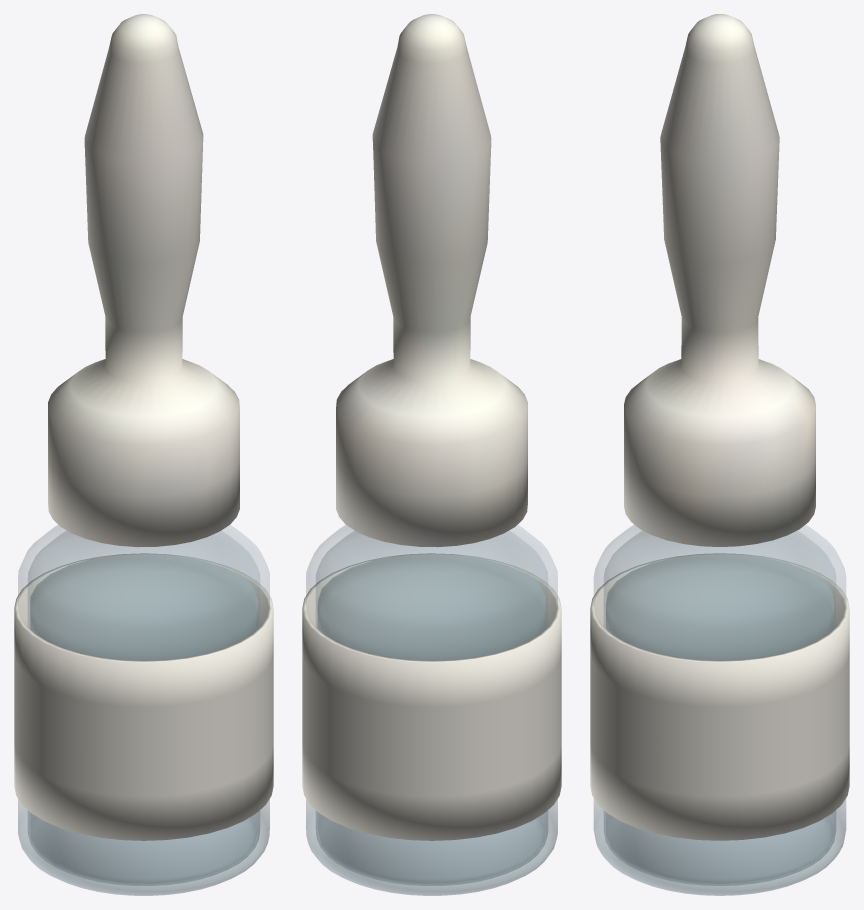
File: indicator-dropper-bottle.glb
The picture shows the model from 3 angles, left to right: view 1: azimuth 30°, elevation 25°; view 2: azimuth 150°, elevation 25°; view 3: azimuth 270°, elevation 25°; orthographic projection.
Parts seen in each view (by area): view 1: indicator-dropper-bottle-label, indicator-dropper-bottle-cap, indicator-dropper-bottle-glass, indicator-dropper-bottle-inner; view 2: indicator-dropper-bottle-label, indicator-dropper-bottle-cap, indicator-dropper-bottle-glass, indicator-dropper-bottle-inner; view 3: indicator-dropper-bottle-label, indicator-dropper-bottle-cap, indicator-dropper-bottle-glass, indicator-dropper-bottle-inner.
Boxes of the visible parts, x1,y1,x2,y2 form: indicator-dropper-bottle-label: (14,553,273,840); indicator-dropper-bottle-cap: (48,14,239,547); indicator-dropper-bottle-glass: (18,525,269,895); indicator-dropper-bottle-inner: (30,554,257,883); indicator-dropper-bottle-label: (302,553,561,840); indicator-dropper-bottle-cap: (336,14,527,547); indicator-dropper-bottle-glass: (306,525,557,895); indicator-dropper-bottle-inner: (318,554,545,883); indicator-dropper-bottle-label: (590,553,849,840); indicator-dropper-bottle-cap: (624,14,815,546); indicator-dropper-bottle-glass: (593,525,846,895); indicator-dropper-bottle-inner: (606,554,833,883).
Size of what is drawn, in the model's own units: 3.7 by 13.1 by 3.7.
